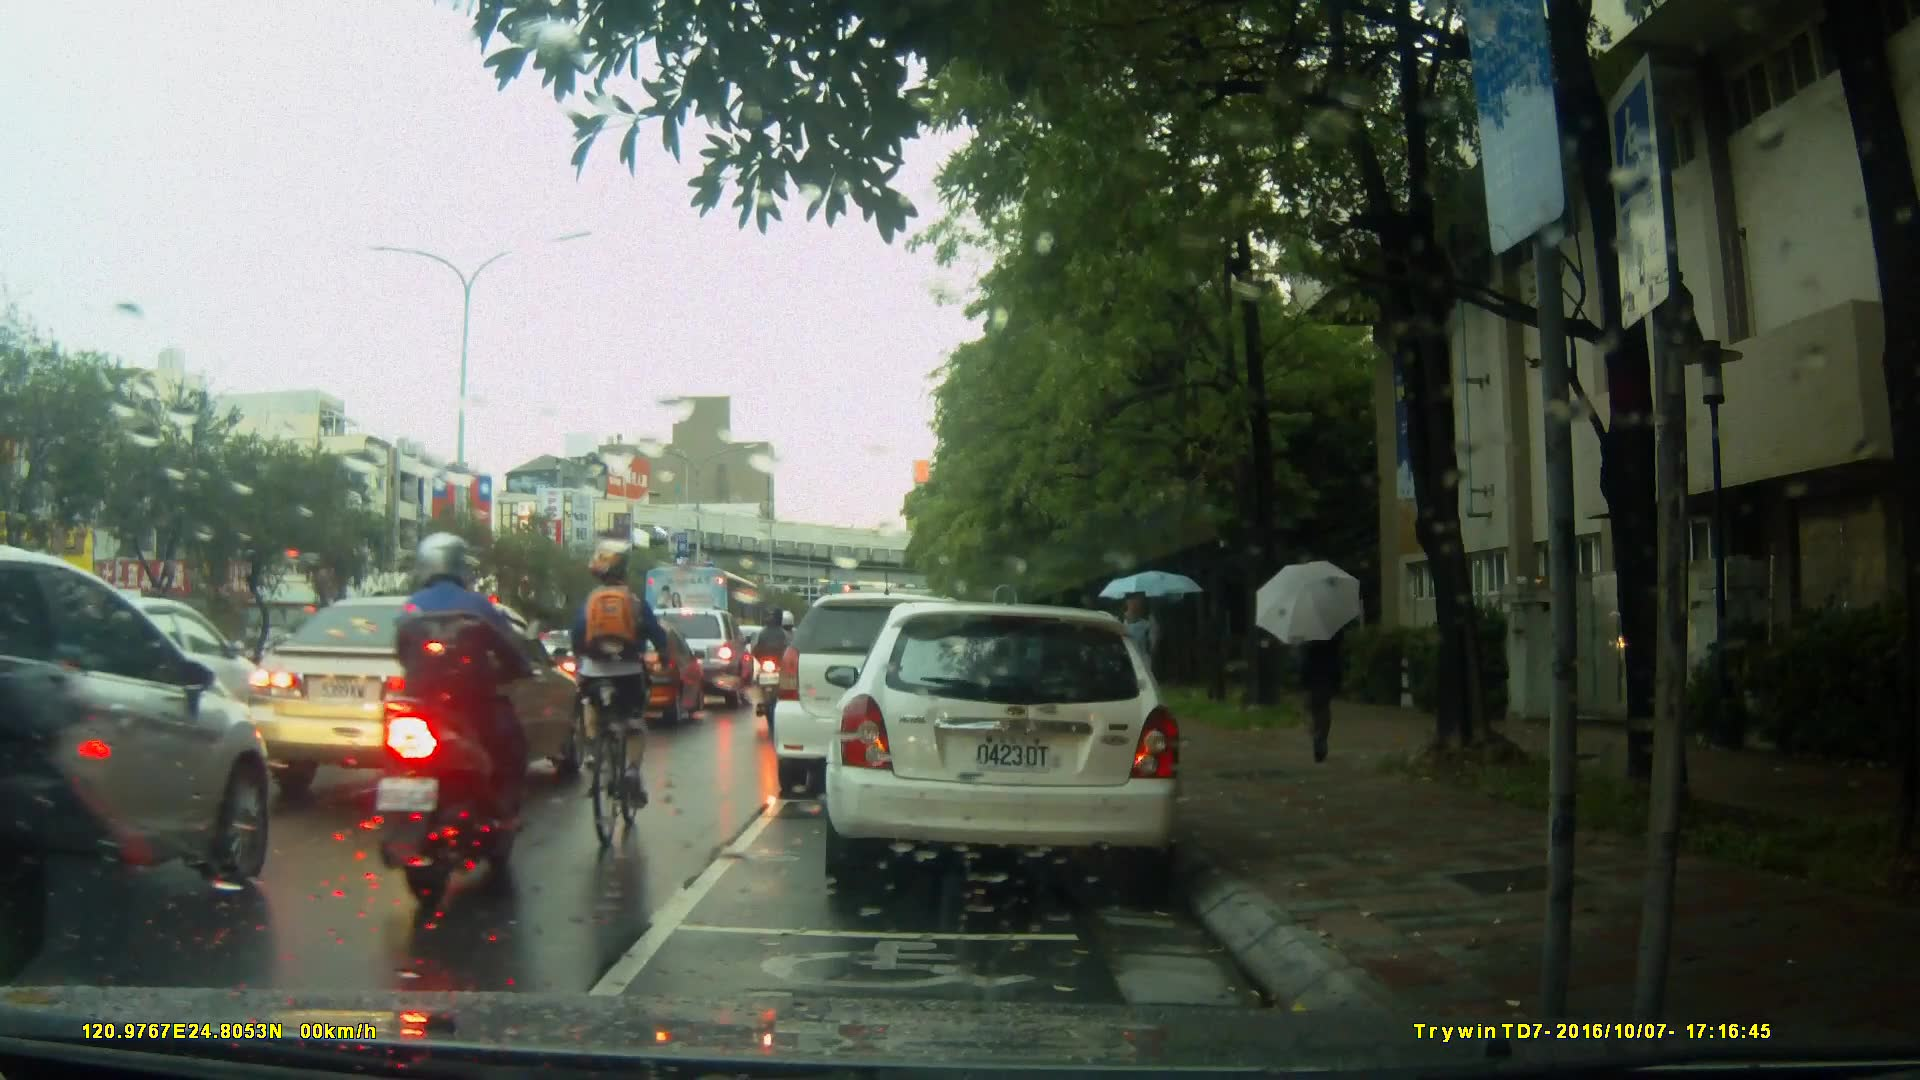pedestrian: (1281, 577, 1348, 764), (1122, 570, 1175, 779)
rider: (383, 532, 525, 901), (570, 549, 684, 859), (760, 610, 795, 729)
vehicle: (1, 549, 278, 968), (835, 594, 1194, 898), (230, 593, 598, 802), (776, 590, 1026, 784), (554, 619, 710, 728), (647, 564, 764, 673)
